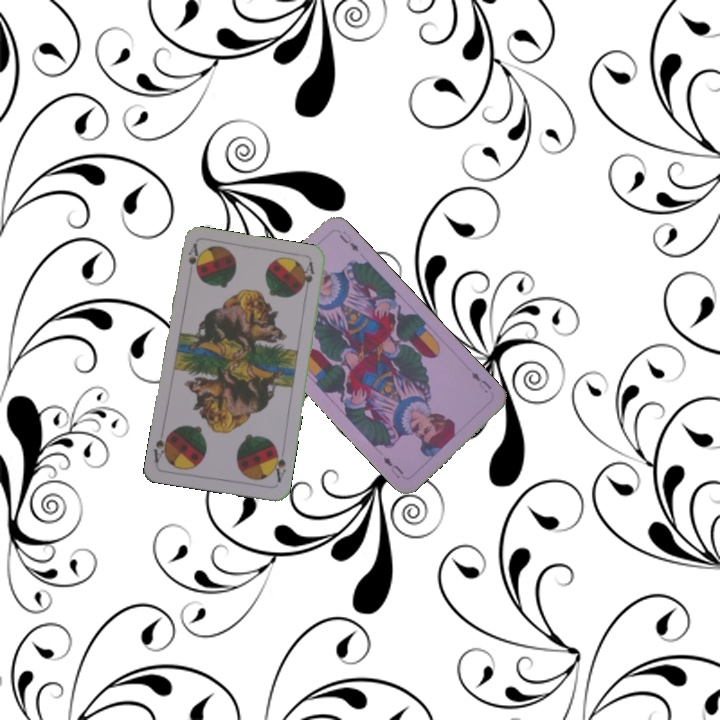EU: (467, 367, 494, 395)
SA: (268, 445, 288, 485), (184, 240, 202, 275)
